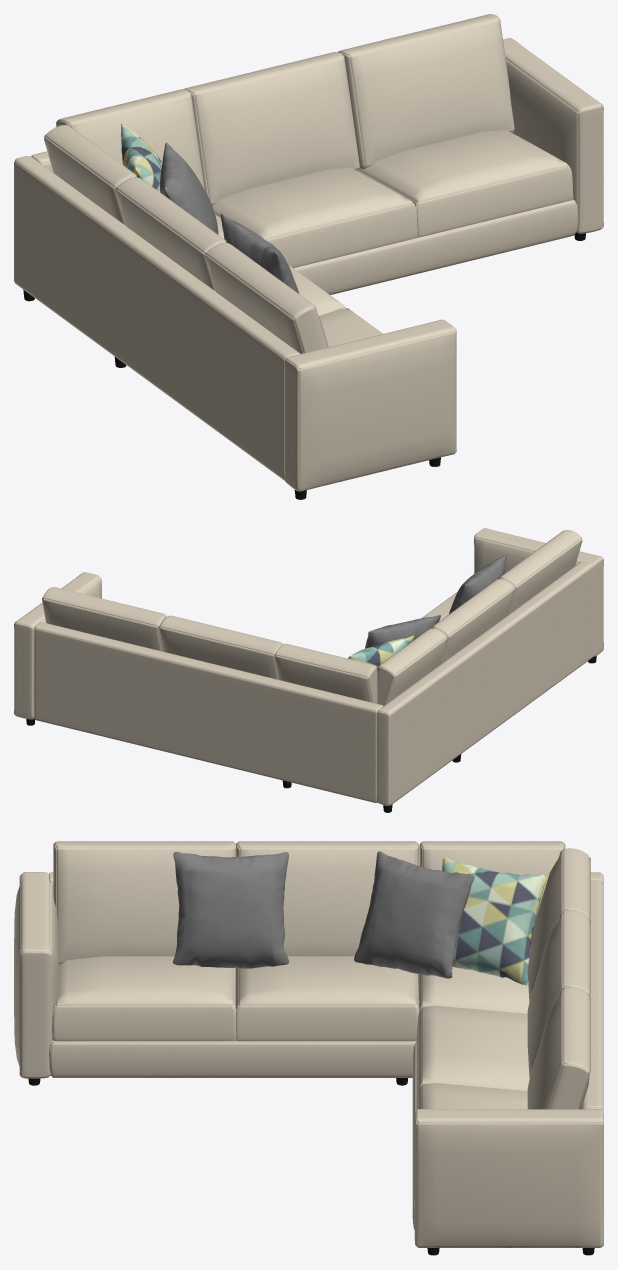
3 renders of one model, top to bottom at view 1: azimuth 30°, elevation 25°; view 2: azimuth 150°, elevation 25°; view 3: azimuth 270°, elevation 25°, orthographic. The views are drawn at different scales.
Parts seen in each view (by area): view 1: ___pCube14.001, ___pCube25.001, ___pCube33.001, ___pCube31.001, ___pCube32.001, ___pCube37.001, ___pCube10, ___pCube34.001, ___pCube38.001, ___pCube27.001, ___pCube26.001, ___pCube30.001 (+5 smaller); view 2: ___pCube35.001, ___pCube14.001, ___pCube33.001, ___pCube31.001, ___pCube27.001, ___pCube25.001, ___pCube26.001, ___pCube38.001, ___pCube10, ___pCube30.001, __Mesh.001, __Mesh1.001 (+1 smaller); view 3: ___pCube10, ___pCube38.001, ___pCube29.001, ___pCube28.001, ___pCube7.001, __Mesh1.001, ___pCube26.001, __Mesh.001, ___pCube37.001, ___pCube25.001, Pillow1:Mesh.001, ___pCube33.001 (+7 smaller).
Part boxes in pixels (x1=…): ___pCube14.001: x1=14, y1=156, x2=300, y2=479; ___pCube25.001: x1=284, y1=319, x2=456, y2=491; ___pCube33.001: x1=337, y1=14, x2=514, y2=169; ___pCube31.001: x1=183, y1=52, x2=359, y2=205; ___pCube32.001: x1=357, y1=129, x2=573, y2=237; ___pCube37.001: x1=212, y1=167, x2=417, y2=268; ___pCube10: x1=503, y1=38, x2=603, y2=233; ___pCube34.001: x1=294, y1=199, x2=577, y2=294; ___pCube38.001: x1=205, y1=243, x2=328, y2=353; ___pCube27.001: x1=56, y1=89, x2=204, y2=189; ___pCube26.001: x1=115, y1=177, x2=226, y2=290; ___pCube30.001: x1=44, y1=125, x2=137, y2=224; ___pCube35.001: x1=34, y1=622, x2=383, y2=802; ___pCube14.001: x1=377, y1=561, x2=593, y2=805; ___pCube33.001: x1=42, y1=587, x2=166, y2=651; ___pCube31.001: x1=158, y1=615, x2=282, y2=679; ___pCube27.001: x1=274, y1=643, x2=377, y2=703; ___pCube25.001: x1=474, y1=528, x2=603, y2=657; ___pCube26.001: x1=431, y1=579, x2=515, y2=664; ___pCube38.001: x1=499, y1=529, x2=582, y2=614; ___pCube10: x1=14, y1=572, x2=101, y2=719; ___pCube30.001: x1=377, y1=628, x2=447, y2=705; __Mesh.001: x1=365, y1=614, x2=440, y2=648; __Mesh1.001: x1=449, y1=554, x2=507, y2=613; ___pCube10: x1=414, y1=1109, x2=603, y2=1247; ___pCube38.001: x1=53, y1=841, x2=236, y2=964; ___pCube29.001: x1=52, y1=956, x2=236, y2=1041; ___pCube28.001: x1=235, y1=956, x2=419, y2=1041; ___pCube7.001: x1=49, y1=1040, x2=415, y2=1077; __Mesh1.001: x1=173, y1=851, x2=288, y2=968; ___pCube26.001: x1=236, y1=841, x2=419, y2=956; __Mesh.001: x1=354, y1=851, x2=474, y2=978; ___pCube37.001: x1=416, y1=1005, x2=529, y2=1109; ___pCube25.001: x1=14, y1=872, x2=58, y2=1078; Pillow1:Mesh.001: x1=442, y1=857, x2=546, y2=985; ___pCube33.001: x1=527, y1=987, x2=590, y2=1109.
Size of the model in its own units: 1.42 by 0.4908 by 1.4.
1 material, 1 textured.
